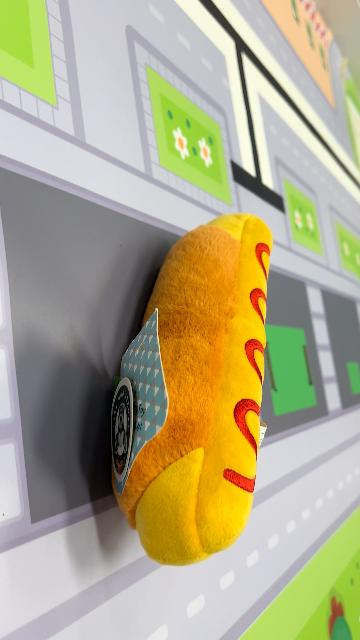hotdog: (109, 212, 275, 568)
